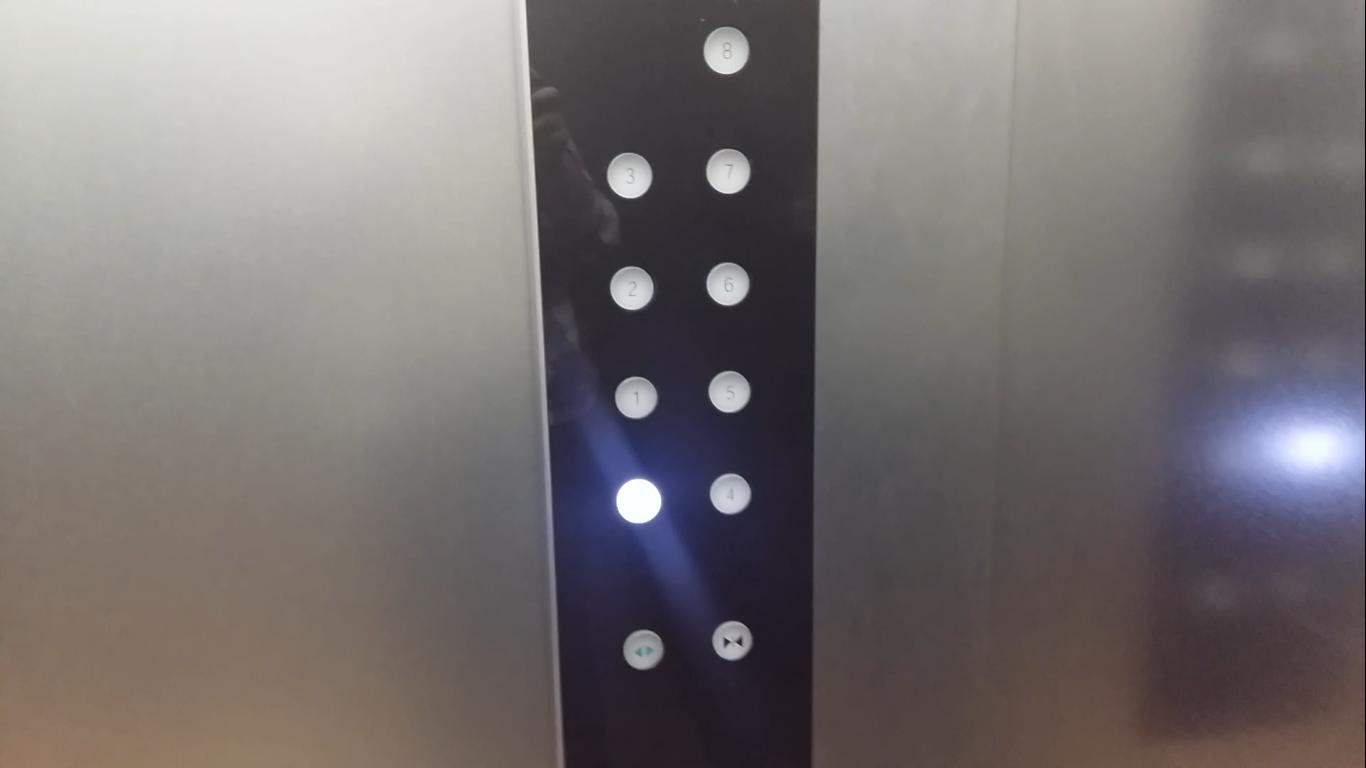1: (612, 374, 659, 421)
2: (608, 263, 655, 310)
3: (605, 150, 652, 200)
4: (706, 470, 752, 516)
5: (707, 368, 751, 415)
6: (703, 259, 751, 309)
7: (703, 145, 752, 196)
8: (702, 24, 750, 78)
close: (710, 619, 754, 661)
empty: (616, 477, 662, 525)
open: (619, 627, 665, 672)
